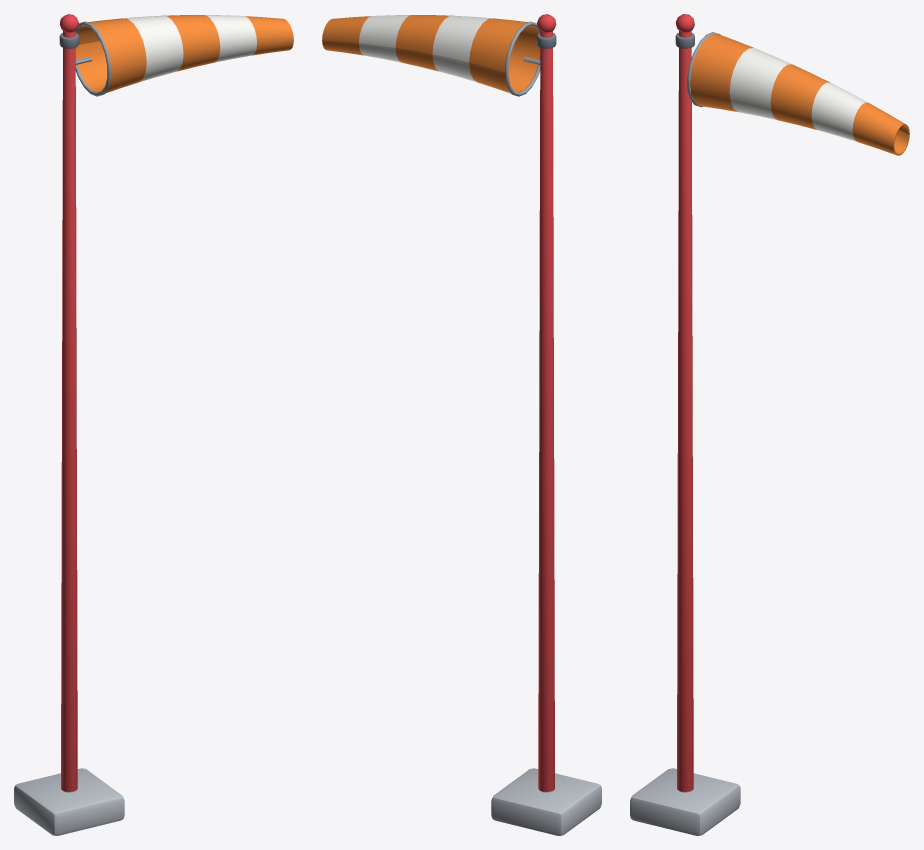
File: mastro_biruta.glb
3 renders of one model, left to right at view 1: azimuth 30°, elevation 25°; view 2: azimuth 150°, elevation 25°; view 3: azimuth 330°, elevation 25°, orthographic.
Parts seen in each view (by area): view 1: mastro_biruta, biruta; view 2: mastro_biruta, biruta; view 3: mastro_biruta, biruta.
Boxes of the visible parts, left/top/right/bottom form: mastro_biruta: left=14, top=14, right=124, bottom=835; biruta: left=75, top=15, right=293, bottom=96; mastro_biruta: left=491, top=14, right=601, bottom=835; biruta: left=322, top=15, right=540, bottom=96; mastro_biruta: left=630, top=14, right=740, bottom=835; biruta: left=687, top=32, right=909, bottom=155.
Size of the model in its own units: 2.08 by 6.29 by 0.6.
Materials: 1 (1 with a texture image).
